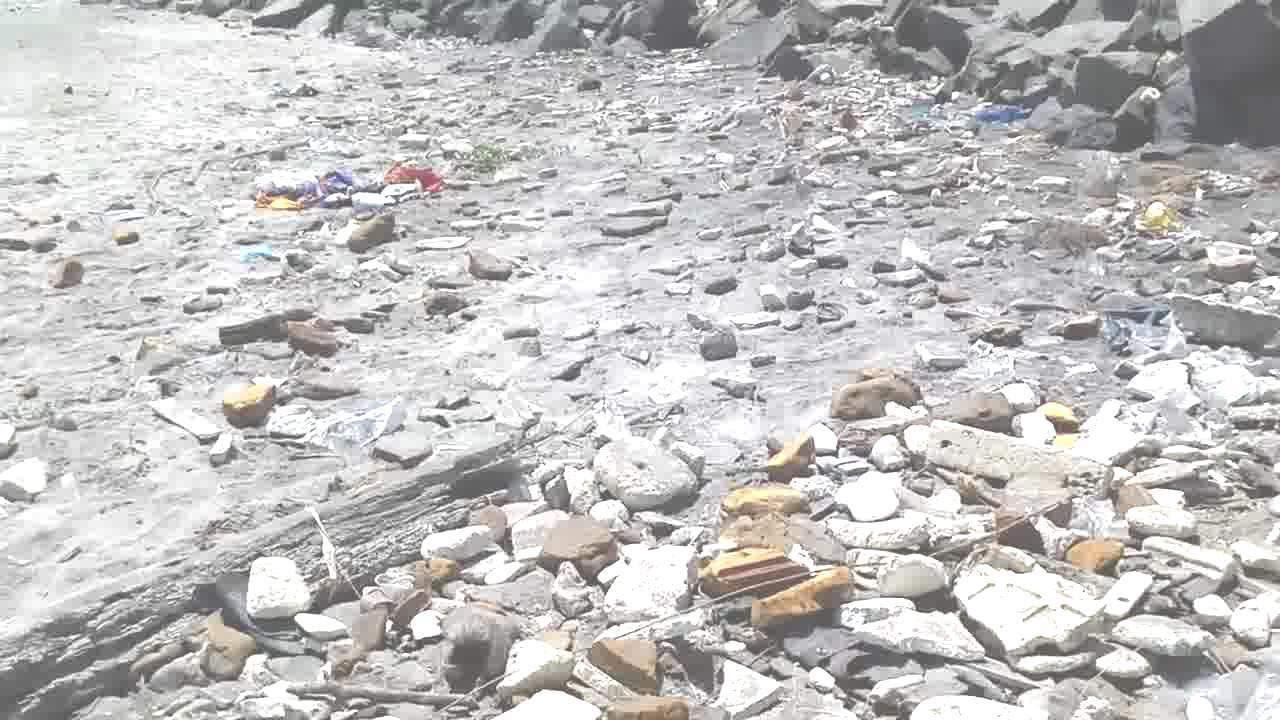large collection of objects: (918, 421, 1100, 497), (956, 566, 1104, 654), (598, 434, 696, 516), (604, 549, 694, 622), (1170, 293, 1279, 349)
obj: (1, 427, 531, 719), (251, 166, 444, 214), (709, 508, 841, 562), (754, 569, 851, 626), (708, 544, 804, 600), (222, 375, 278, 430), (455, 142, 518, 182), (1066, 538, 1125, 577)
sand/background: (70, 2, 1280, 164)
